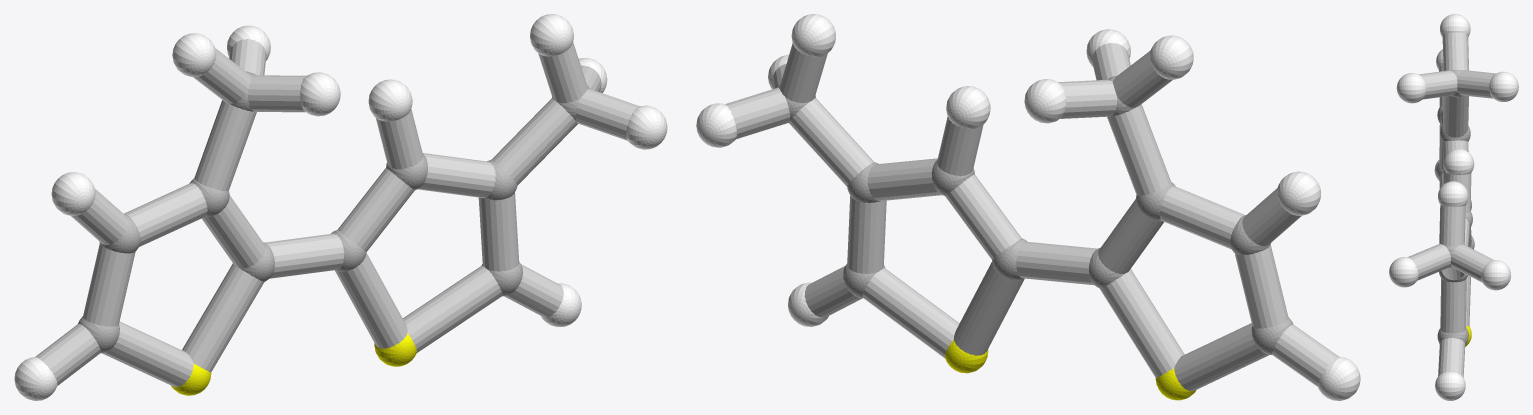
The model's file is Methylthiophene_Phi_5_Theta_180_Methylthiophene.glb.
The picture shows the model from 3 angles, left to right: view 1: azimuth 30°, elevation 25°; view 2: azimuth 150°, elevation 25°; view 3: azimuth 270°, elevation 25°; orthographic projection. The views are drawn at different scales.
Parts seen in each view (by area): view 1: grp7965, grp3621, grp1, grp7241; view 2: grp7965, grp3621, grp1, grp7241; view 3: grp7965, grp3621, grp1.
Boxes of the visible parts, x1=… form: grp7965: x1=35, y1=39, x2=639, y2=387; grp3621: x1=14, y1=14, x2=667, y2=400; grp1: x1=78, y1=71, x2=590, y2=353; grp7241: x1=171, y1=333, x2=416, y2=395; grp7965: x1=725, y1=43, x2=1338, y2=391; grp3621: x1=696, y1=14, x2=1360, y2=400; grp1: x1=777, y1=75, x2=1293, y2=354; grp7241: x1=945, y1=339, x2=1196, y2=400; grp7965: x1=1407, y1=32, x2=1495, y2=377; grp3621: x1=1389, y1=14, x2=1518, y2=400; grp1: x1=1436, y1=69, x2=1474, y2=344.
Bounding box in the file's own units: 9.72 × 5.69 × 2.53.
